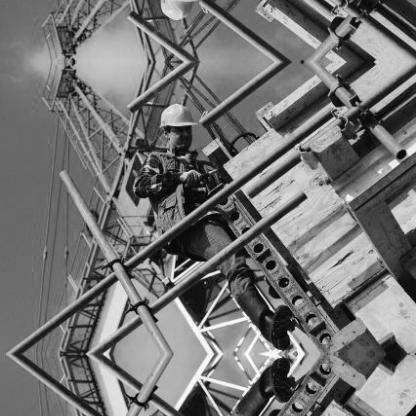helmet: (157, 99, 196, 148), (156, 0, 196, 24)
